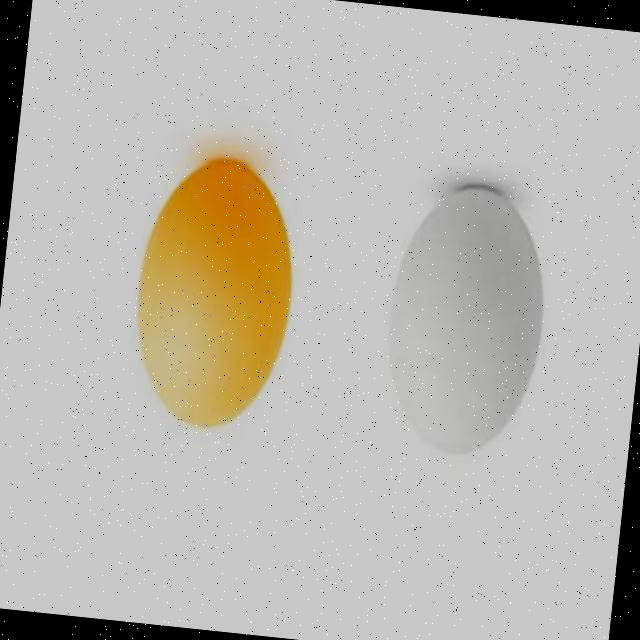ping-pong-ball: (126, 148, 306, 438), (374, 178, 554, 464)
